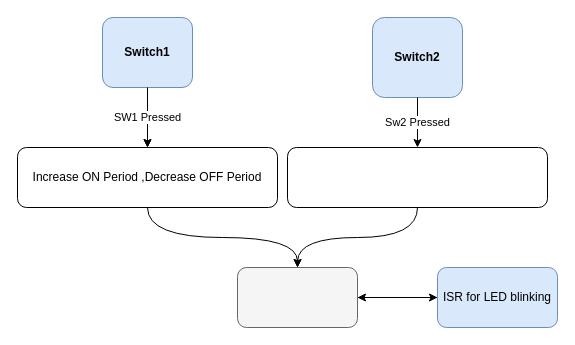
Some shapes in this 575 by 345 pixel diagram are drawn without their labels. The centre of each missing label's shape, as x and y in pixels:
Checking The Switchs: point 297,297
Increase OFF Period ,Decrease ON Period: point 417,177
